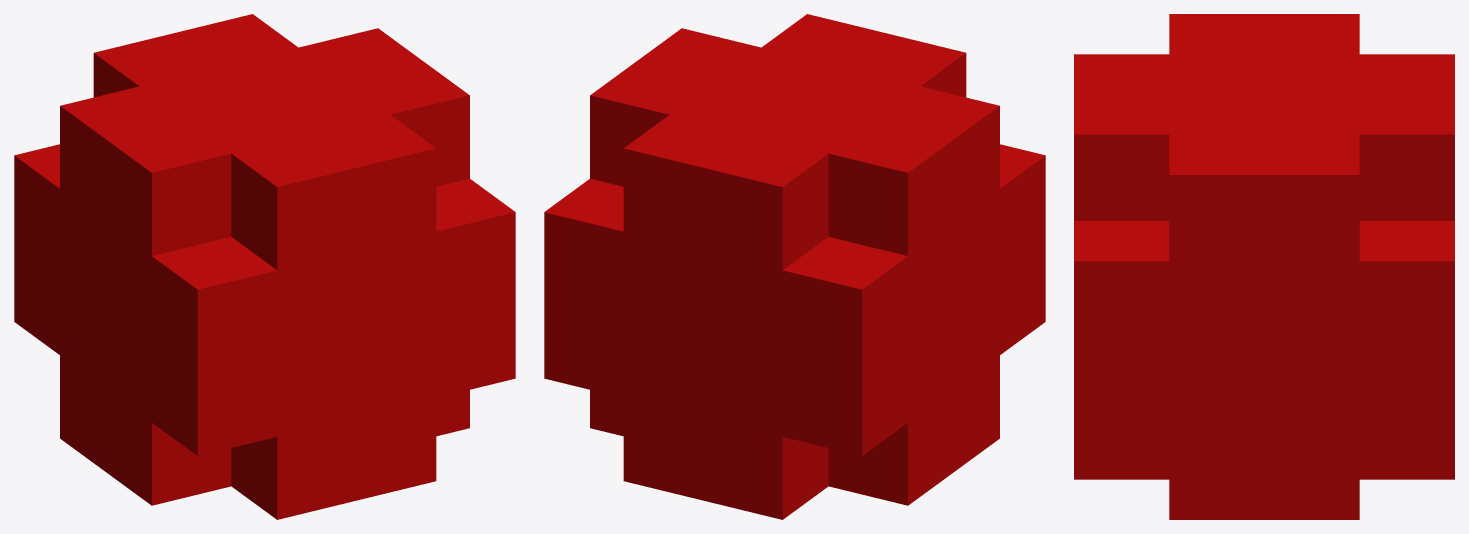
File: blood.obj
The picture shows the model from 3 angles, left to right: view 1: azimuth 30°, elevation 25°; view 2: azimuth 150°, elevation 25°; view 3: azimuth 270°, elevation 25°; orthographic projection. The views are drawn at different scales.
Bounding box in the file's own units: 0.4 × 0.4 × 0.4.
1 material, 1 textured.
